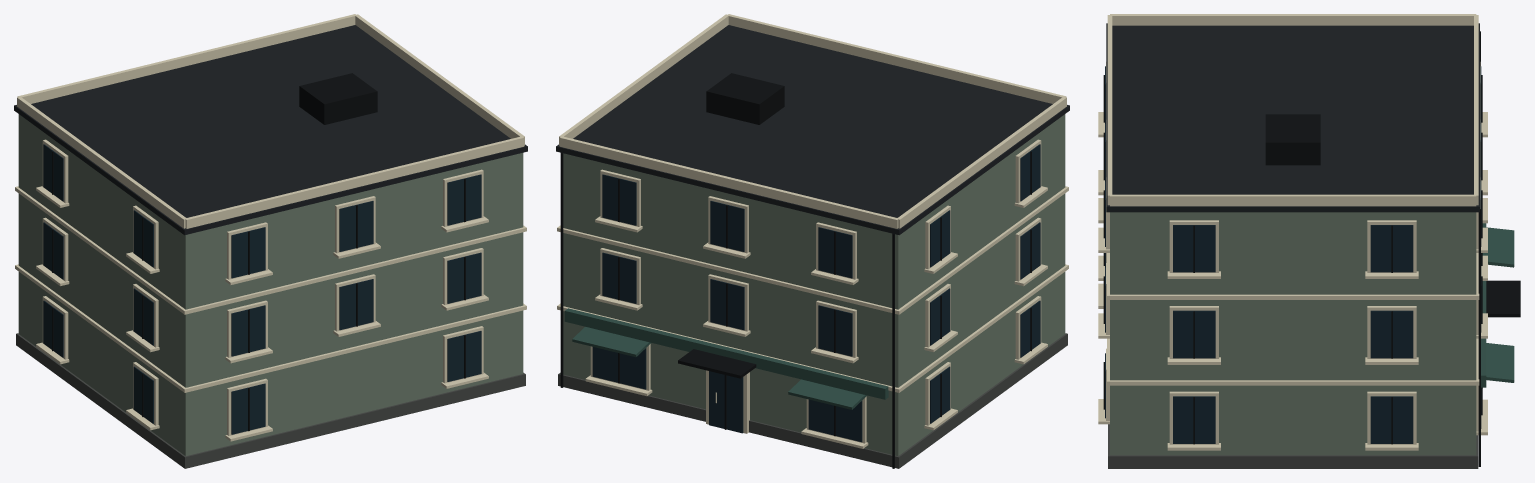
File: 04_SageCorner.obj
3 renders of one model, left to right at view 1: azimuth 30°, elevation 25°; view 2: azimuth 150°, elevation 25°; view 3: azimuth 270°, elevation 25°, orthographic. The views are drawn at different scales.
Parts seen in each view (by area): view 1: Sage, Roof, Trim, Glass, Base, Metal; view 2: Sage, Roof, Trim, Glass, Metal, Awning, Base; view 3: Sage, Roof, Trim, Glass, Metal, Base, Awning.
Boxes of the visible parts, x1=… form: Sage: x1=18, y1=114, x2=523, y2=455; Roof: x1=14, y1=25, x2=527, y2=235; Trim: x1=15, y1=14, x2=526, y2=441; Glass: x1=43, y1=144, x2=481, y2=434; Base: x1=16, y1=333, x2=525, y2=468; Metal: x1=52, y1=73, x2=465, y2=431; Sage: x1=563, y1=114, x2=1065, y2=455; Roof: x1=556, y1=25, x2=1069, y2=235; Trim: x1=557, y1=14, x2=1068, y2=448; Glass: x1=592, y1=144, x2=1040, y2=442; Metal: x1=560, y1=73, x2=1031, y2=468; Awning: x1=564, y1=308, x2=888, y2=409; Base: x1=558, y1=333, x2=1067, y2=468; Sage: x1=1110, y1=212, x2=1476, y2=455; Roof: x1=1106, y1=23, x2=1479, y2=212; Trim: x1=1098, y1=14, x2=1487, y2=450; Glass: x1=1105, y1=66, x2=1481, y2=443; Metal: x1=1103, y1=31, x2=1520, y2=466; Base: x1=1108, y1=424, x2=1478, y2=468; Awning: x1=1481, y1=223, x2=1514, y2=387.
Size of the model in its own units: 14.76 by 10.32 by 13.83.
